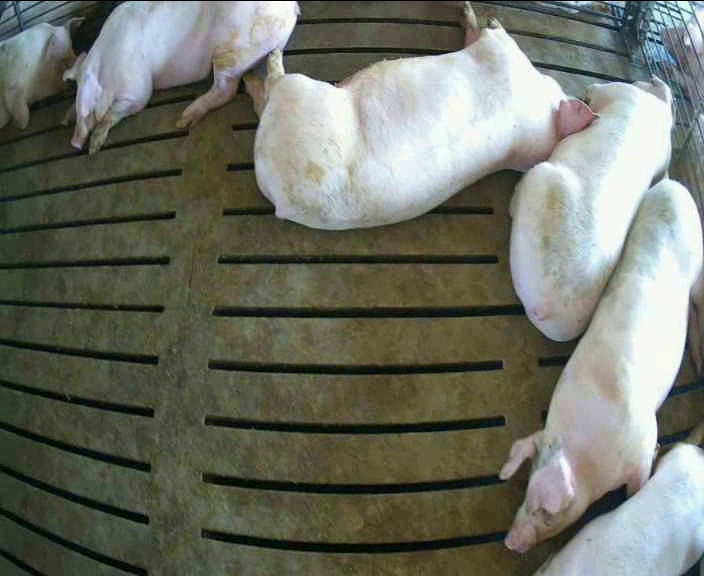pig: (245, 5, 593, 228), (501, 170, 703, 551), (511, 79, 674, 339), (61, 3, 299, 153), (537, 421, 703, 574), (0, 17, 84, 127)
